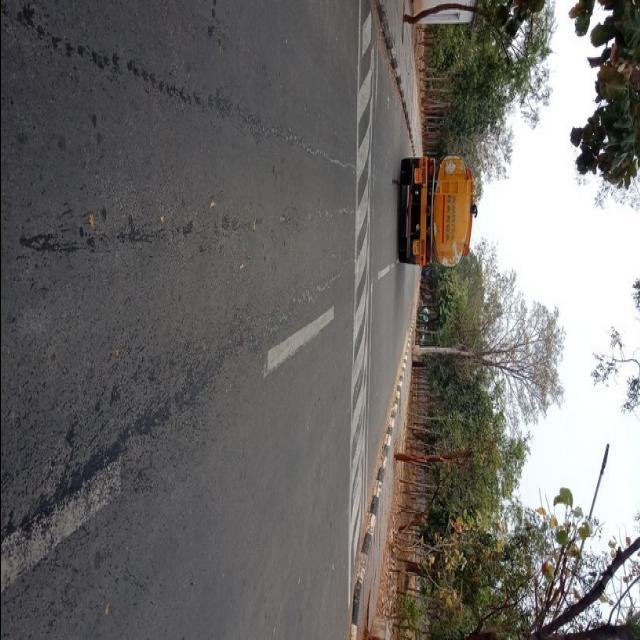speedbreaker: (354, 0, 369, 538)
